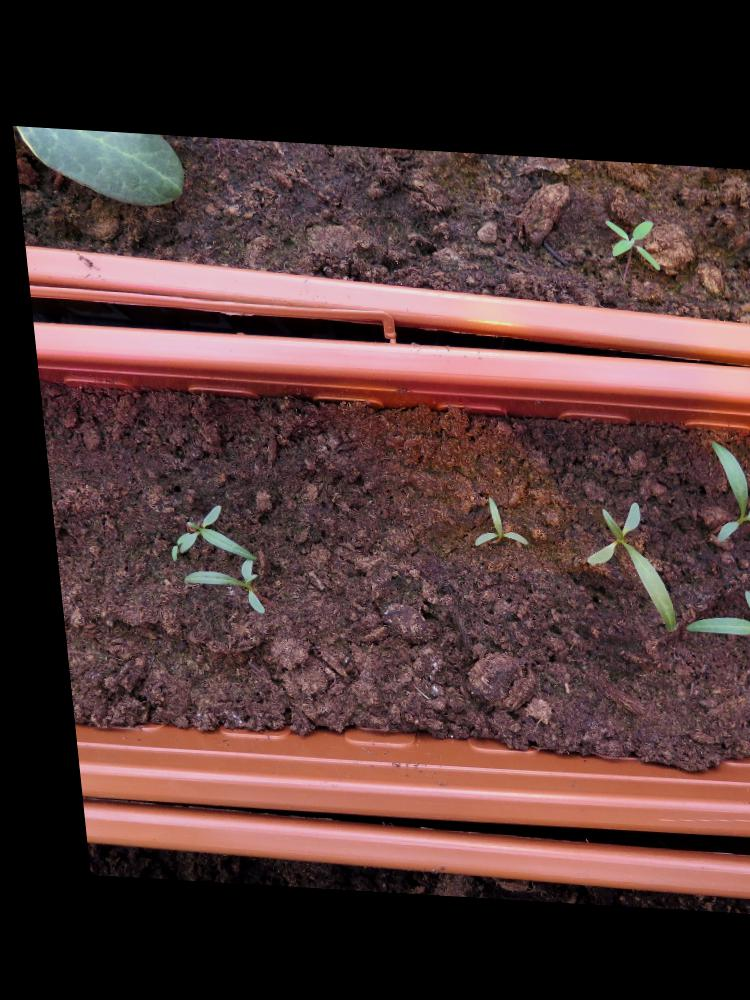weed: (565, 492, 667, 627), (665, 577, 749, 661), (693, 431, 749, 538), (455, 489, 518, 544), (597, 211, 656, 264)
